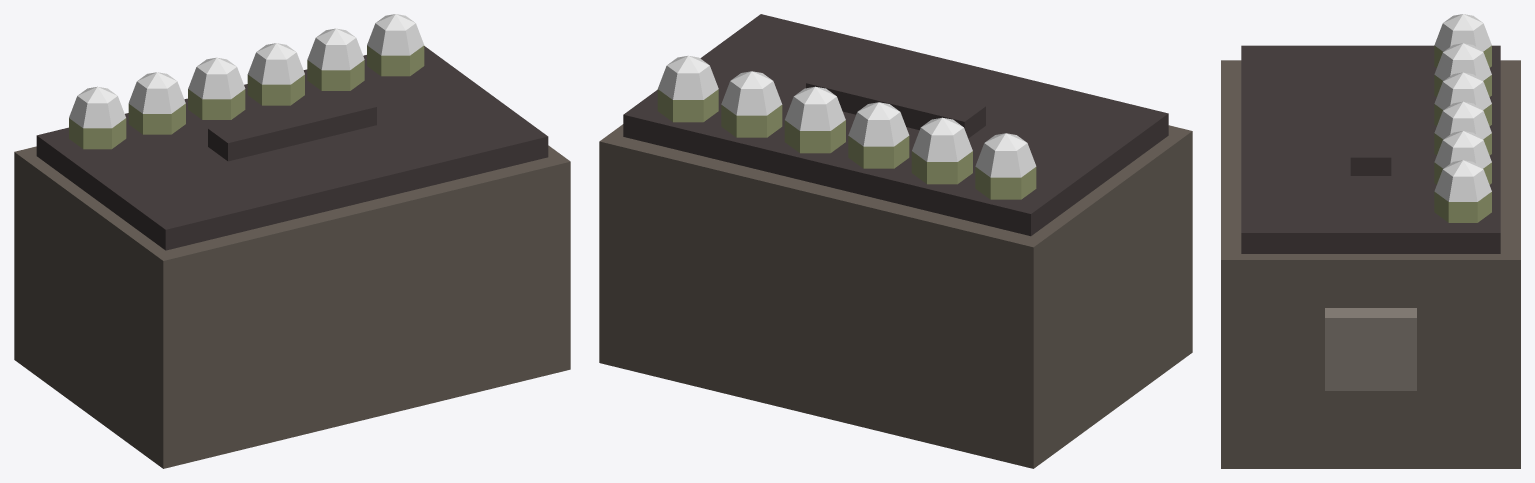
File: ce_ammo_grenade_smk_c.obj
3 renders of one model, left to right at view 1: azimuth 30°, elevation 25°; view 2: azimuth 150°, elevation 25°; view 3: azimuth 270°, elevation 25°, orthographic. The views are drawn at different scales.
Visible parts, largest first — view 1: ce_ammo_grenade_smk_c_0, ce_ammo_grenade_smk_c_1, ce_ammo_grenade_smk_c_2, ce_ammo_grenade_smk_c_17, ce_ammo_grenade_smk_c_5, ce_ammo_grenade_smk_c_11, ce_ammo_grenade_smk_c_14, ce_ammo_grenade_smk_c_20, ce_ammo_grenade_smk_c_8, ce_ammo_grenade_smk_c_13, ce_ammo_grenade_smk_c_19, ce_ammo_grenade_smk_c_4 (+3 smaller); view 2: ce_ammo_grenade_smk_c_0, ce_ammo_grenade_smk_c_1, ce_ammo_grenade_smk_c_2, ce_ammo_grenade_smk_c_11, ce_ammo_grenade_smk_c_17, ce_ammo_grenade_smk_c_5, ce_ammo_grenade_smk_c_20, ce_ammo_grenade_smk_c_14, ce_ammo_grenade_smk_c_8, ce_ammo_grenade_smk_c_4, ce_ammo_grenade_smk_c_7, ce_ammo_grenade_smk_c_13 (+3 smaller); view 3: ce_ammo_grenade_smk_c_0, ce_ammo_grenade_smk_c_1, ce_ammo_grenade_smk_c_3, ce_ammo_grenade_smk_c_2, ce_ammo_grenade_smk_c_20, ce_ammo_grenade_smk_c_19, ce_ammo_grenade_smk_c_5, ce_ammo_grenade_smk_c_17, ce_ammo_grenade_smk_c_14, ce_ammo_grenade_smk_c_11, ce_ammo_grenade_smk_c_8, ce_ammo_grenade_smk_c_15 (+5 smaller).
Boxes of the visible parts, x1,y1,x2,y2 form: ce_ammo_grenade_smk_c_0: (14,145,570,468); ce_ammo_grenade_smk_c_1: (36,46,548,250); ce_ammo_grenade_smk_c_2: (208,92,376,161); ce_ammo_grenade_smk_c_17: (307,38,364,70); ce_ammo_grenade_smk_c_5: (69,96,125,128); ce_ammo_grenade_smk_c_11: (188,67,245,99); ce_ammo_grenade_smk_c_14: (248,52,304,84); ce_ammo_grenade_smk_c_20: (367,23,423,55); ce_ammo_grenade_smk_c_8: (128,81,185,113); ce_ammo_grenade_smk_c_13: (247,74,304,105); ce_ammo_grenade_smk_c_19: (367,45,424,76); ce_ammo_grenade_smk_c_4: (69,118,126,149); ce_ammo_grenade_smk_c_0: (599,124,1192,468); ce_ammo_grenade_smk_c_1: (623,14,1168,236); ce_ammo_grenade_smk_c_2: (806,67,985,138); ce_ammo_grenade_smk_c_11: (848,112,909,146); ce_ammo_grenade_smk_c_17: (721,81,782,115); ce_ammo_grenade_smk_c_5: (975,143,1036,177); ce_ammo_grenade_smk_c_20: (658,65,718,99); ce_ammo_grenade_smk_c_14: (785,96,845,130); ce_ammo_grenade_smk_c_8: (912,128,972,161); ce_ammo_grenade_smk_c_4: (975,166,1036,199); ce_ammo_grenade_smk_c_7: (911,151,972,184); ce_ammo_grenade_smk_c_13: (784,120,845,153); ce_ammo_grenade_smk_c_0: (1221,60,1520,468); ce_ammo_grenade_smk_c_1: (1241,45,1500,253); ce_ammo_grenade_smk_c_3: (1325,308,1416,390); ce_ammo_grenade_smk_c_2: (1350,84,1391,175); ce_ammo_grenade_smk_c_20: (1434,169,1491,201); ce_ammo_grenade_smk_c_19: (1434,191,1491,222); ce_ammo_grenade_smk_c_5: (1434,23,1491,51); ce_ammo_grenade_smk_c_17: (1434,140,1491,168); ce_ammo_grenade_smk_c_14: (1434,111,1491,139); ce_ammo_grenade_smk_c_11: (1434,82,1491,110); ce_ammo_grenade_smk_c_8: (1434,52,1491,80); ce_ammo_grenade_smk_c_15: (1443,101,1483,118).
Size of the model in its own units: 0.86 by 0.54 by 0.52.
